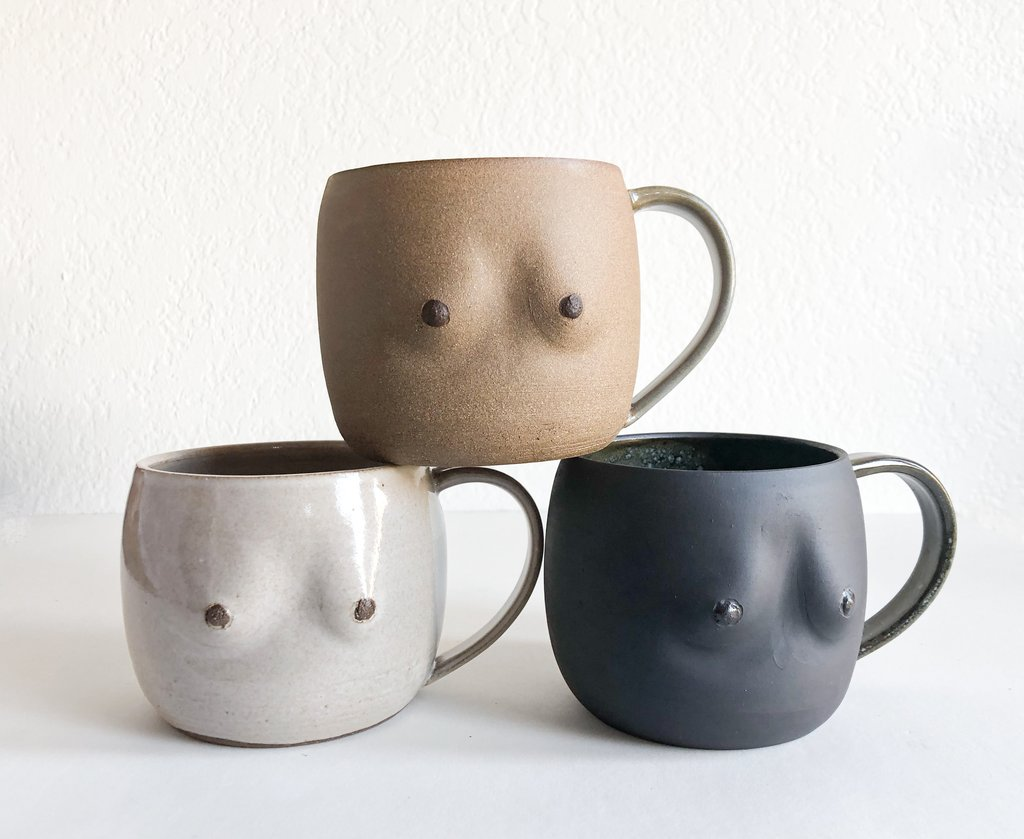gelas: (552, 414, 949, 792), (119, 435, 543, 750), (314, 156, 736, 467)
